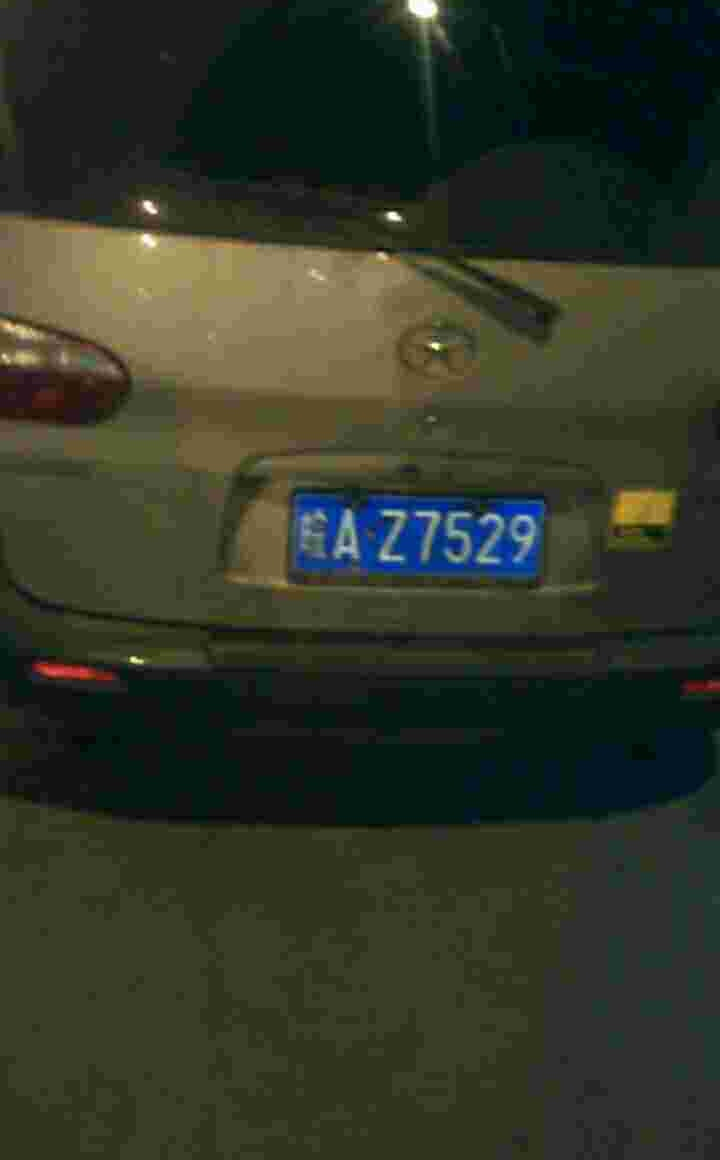plate: (294, 491, 551, 583)
